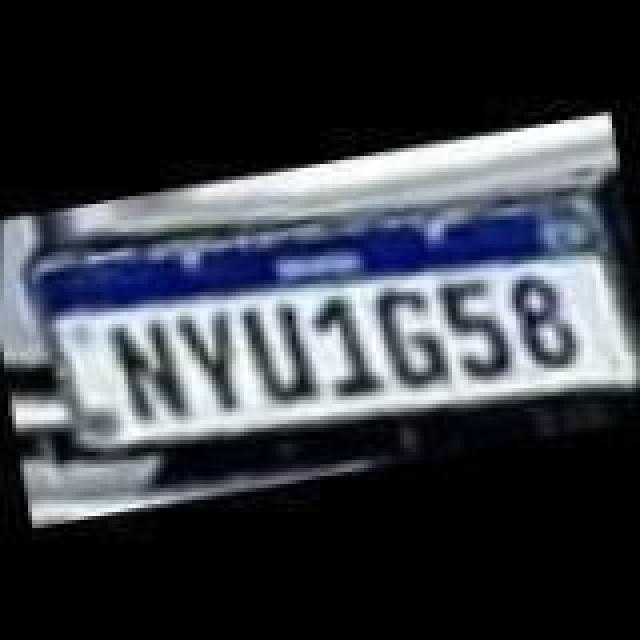1: (304, 288, 384, 400)
5: (430, 262, 514, 382)
8: (506, 266, 582, 374)
G: (362, 276, 454, 392)
N: (102, 304, 194, 432)
U: (236, 294, 324, 410)
Y: (176, 302, 256, 414)
